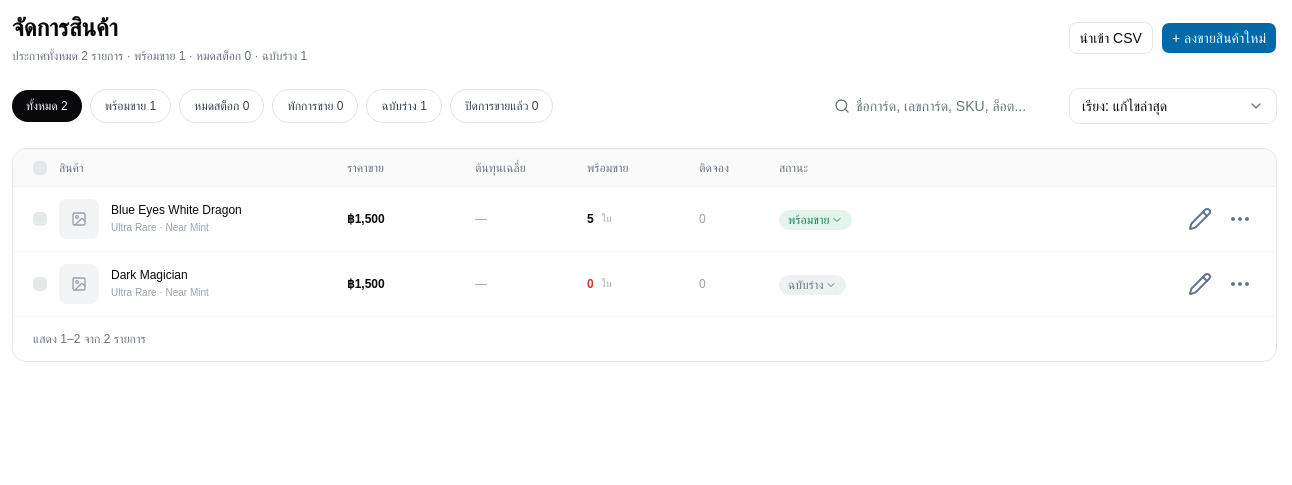
Test: ProductsContent Integration › searches the whole shop through the backend and can clear the search
The width and height of the screenshot is (1292, 485).
Expected: the text "Dark Magician" is shown, [111, 268, 188, 282]
Type "blue" into the search field named "ค้นหาสินค้า" at coordinates (955, 106), box [850, 88, 1060, 124]
Then press Enter
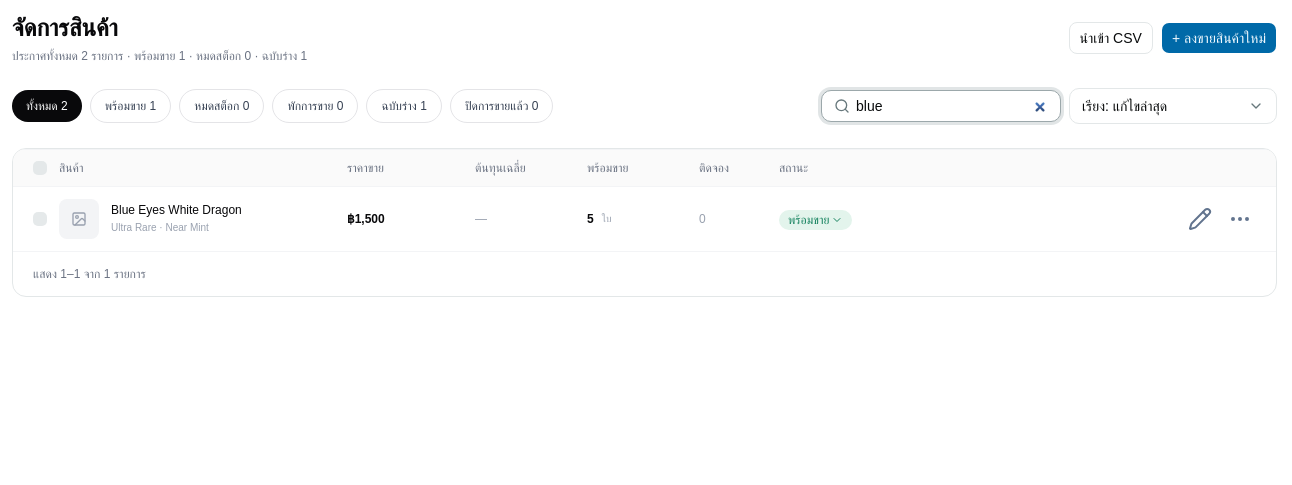
Expected: the text "Blue Eyes White Dragon" is shown, [111, 202, 242, 218]
Expected: the text "Dark Magician" is gone
Replace the text in the search field named "ค้นหาสินค้า" with "pikachu" at coordinates (955, 106), box [850, 88, 1060, 124]
Then press Enter
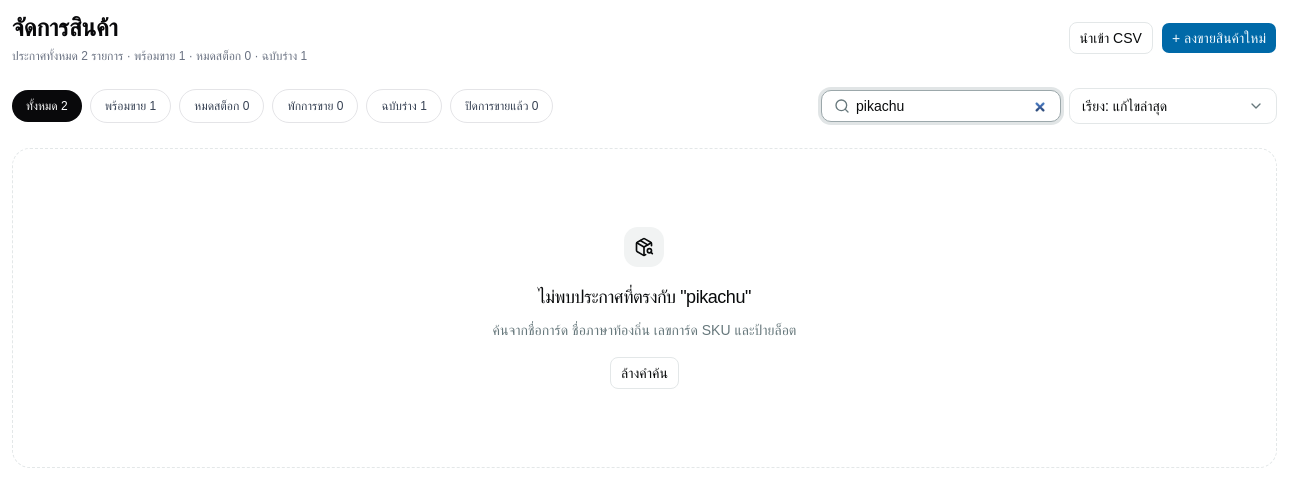
Expected: the text "ไม่พบประกาศที่ตรงกับ \"pikachu\"" is shown, [538, 283, 751, 311]
Click the button "ล้างคำค้น" at coordinates (644, 373), box [610, 357, 679, 389]
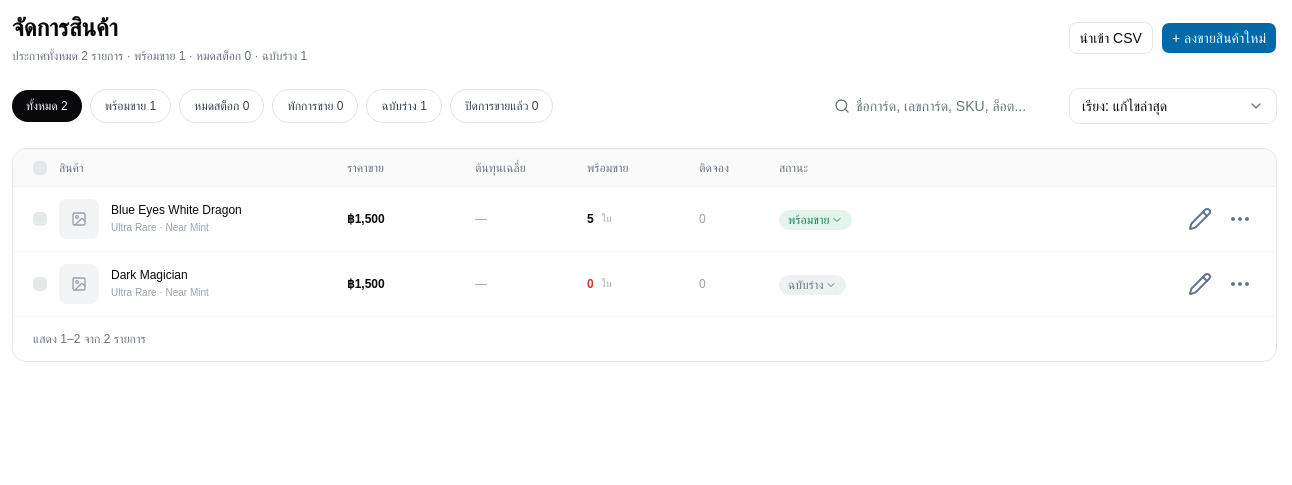
Expected: the text "Dark Magician" is shown, [111, 268, 188, 282]
